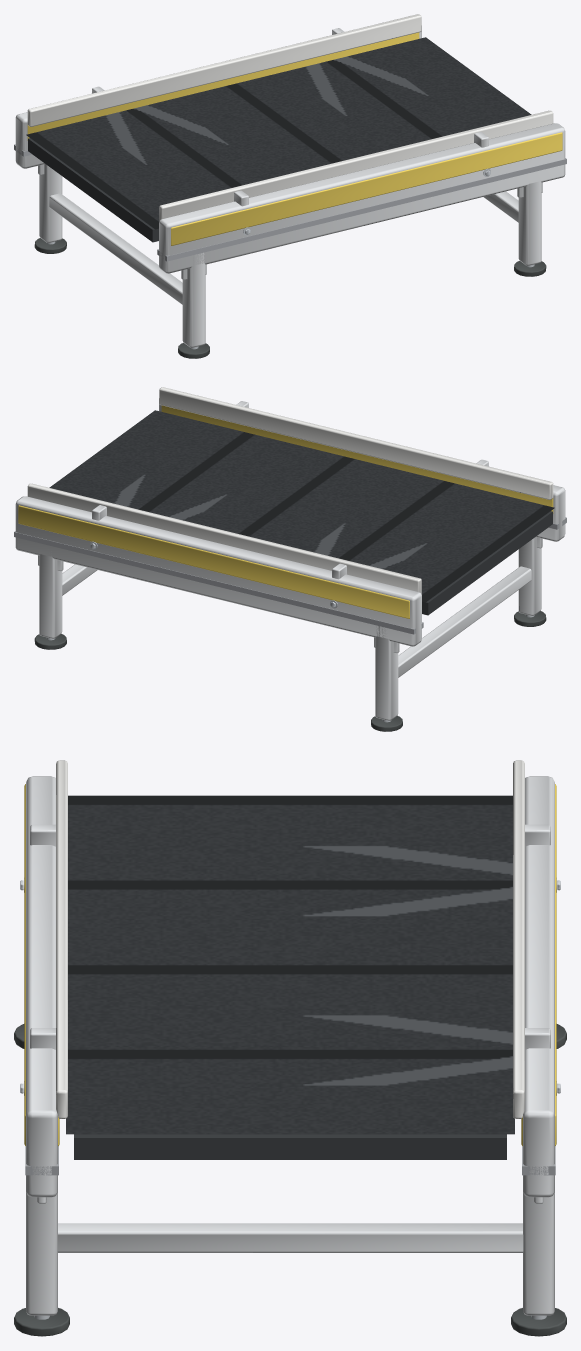
Rendered from cinta_recta_mk1.glb.
The picture shows the model from 3 angles, top to bottom: view 1: azimuth 30°, elevation 25°; view 2: azimuth 150°, elevation 25°; view 3: azimuth 270°, elevation 25°; orthographic projection. The views are drawn at different scales.
Visible parts, largest first — view 1: banda, bastidor-1, guia1, franja-1, guia-1, travesano-0.42, franja1, bastidor-1_ranura, lecho, pata-1-0.42, pata-10.42, pata1-0.42 (+2 smaller); view 2: banda, bastidor1, guia-1, franja1, guia1, travesano-0.42, franja-1, bastidor1_ranura, lecho, pata1-0.42, pata10.42, pata-1-0.42 (+2 smaller); view 3: banda, travesano0.42, bastidor-1, bastidor1, lecho, guia-1, guia1, pata-10.42, pata10.42, pata-10.42_pie, pata10.42_pie, franja-1 (+1 smaller).
Part boxes in pixels (box(x1,y1,x2,y2)): banda: box(26, 37, 531, 229); bastidor-1: box(159, 123, 565, 273); guia1: box(27, 14, 421, 126); franja-1: box(171, 132, 562, 245); guia-1: box(159, 110, 553, 220); travesano-0.42: box(49, 193, 182, 304); franja1: box(27, 32, 419, 140); bastidor-1_ranura: box(157, 158, 566, 261); lecho: box(28, 138, 158, 242); pata-1-0.42: box(182, 252, 205, 347); pata-10.42: box(518, 181, 541, 265); pata1-0.42: box(39, 164, 62, 242); banda: box(49, 410, 554, 602); bastidor1: box(15, 496, 421, 646); guia-1: box(159, 387, 553, 499); franja1: box(18, 505, 409, 618); guia1: box(27, 483, 421, 593); travesano-0.42: box(398, 566, 531, 677); franja-1: box(161, 405, 553, 513); bastidor1_ranura: box(14, 531, 423, 634); lecho: box(422, 511, 552, 615); pata1-0.42: box(375, 626, 398, 720); pata10.42: box(39, 554, 62, 638); pata-1-0.42: box(518, 537, 541, 615); banda: box(66, 795, 514, 1134); travesano0.42: box(57, 1223, 523, 1252); bastidor-1: box(26, 776, 57, 1197); bastidor1: box(523, 776, 554, 1197); lecho: box(74, 1134, 506, 1159); guia-1: box(56, 760, 67, 1118); guia1: box(513, 760, 524, 1118); pata-10.42: box(26, 1192, 57, 1315); pata10.42: box(523, 1192, 554, 1315); pata-10.42_pie: box(14, 1308, 69, 1336); pata10.42_pie: box(511, 1308, 566, 1336); franja-1: box(24, 784, 59, 1145).
Size of the model in its own units: 1 by 0.355 by 0.69.
9 materials, 1 textured.
